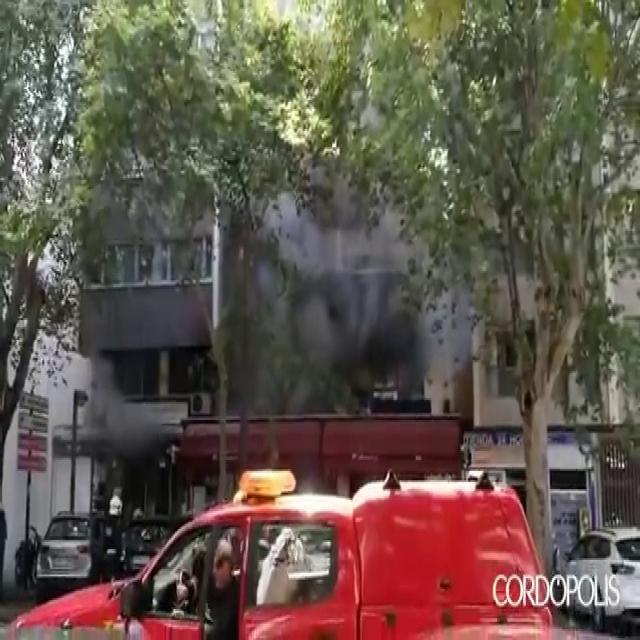Smoke: (260, 181, 472, 403)
